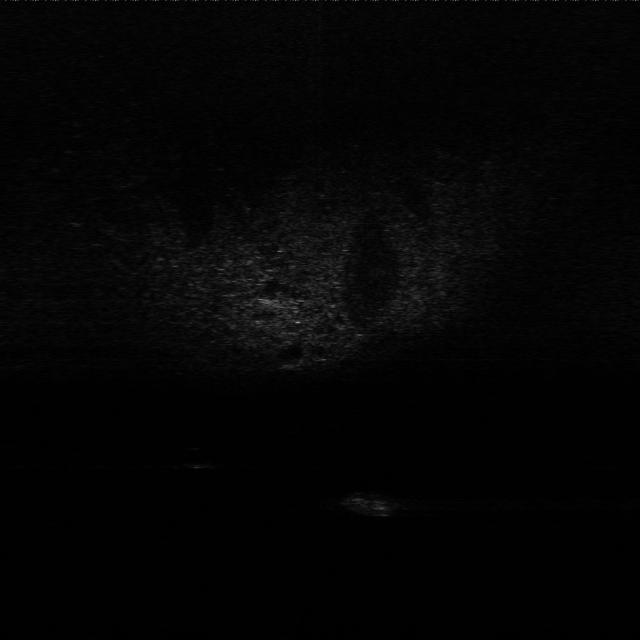ball: (178, 446, 218, 472)
circle cage: (340, 487, 420, 522)
